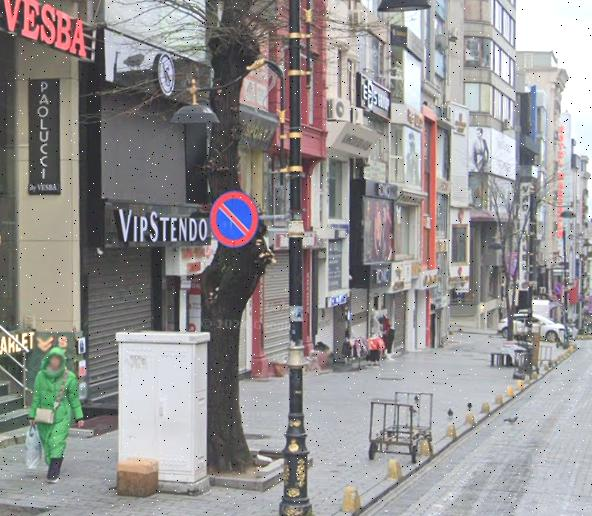nopark: (214, 194, 258, 244)
